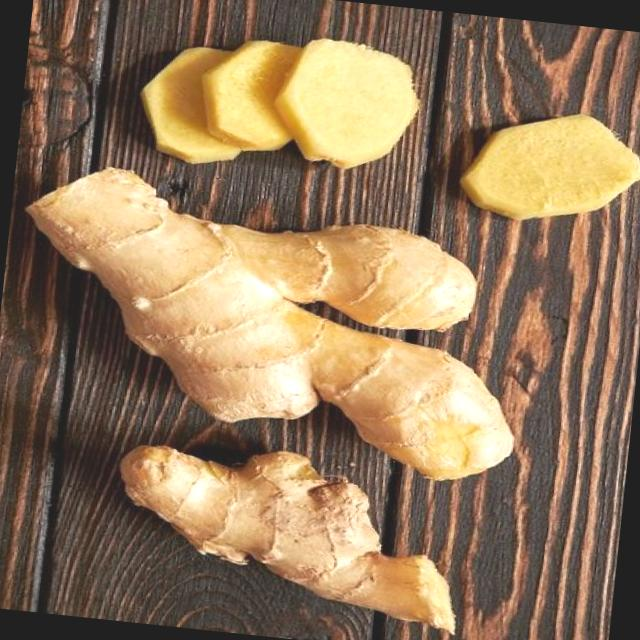ginger-root: (14, 138, 600, 514)
